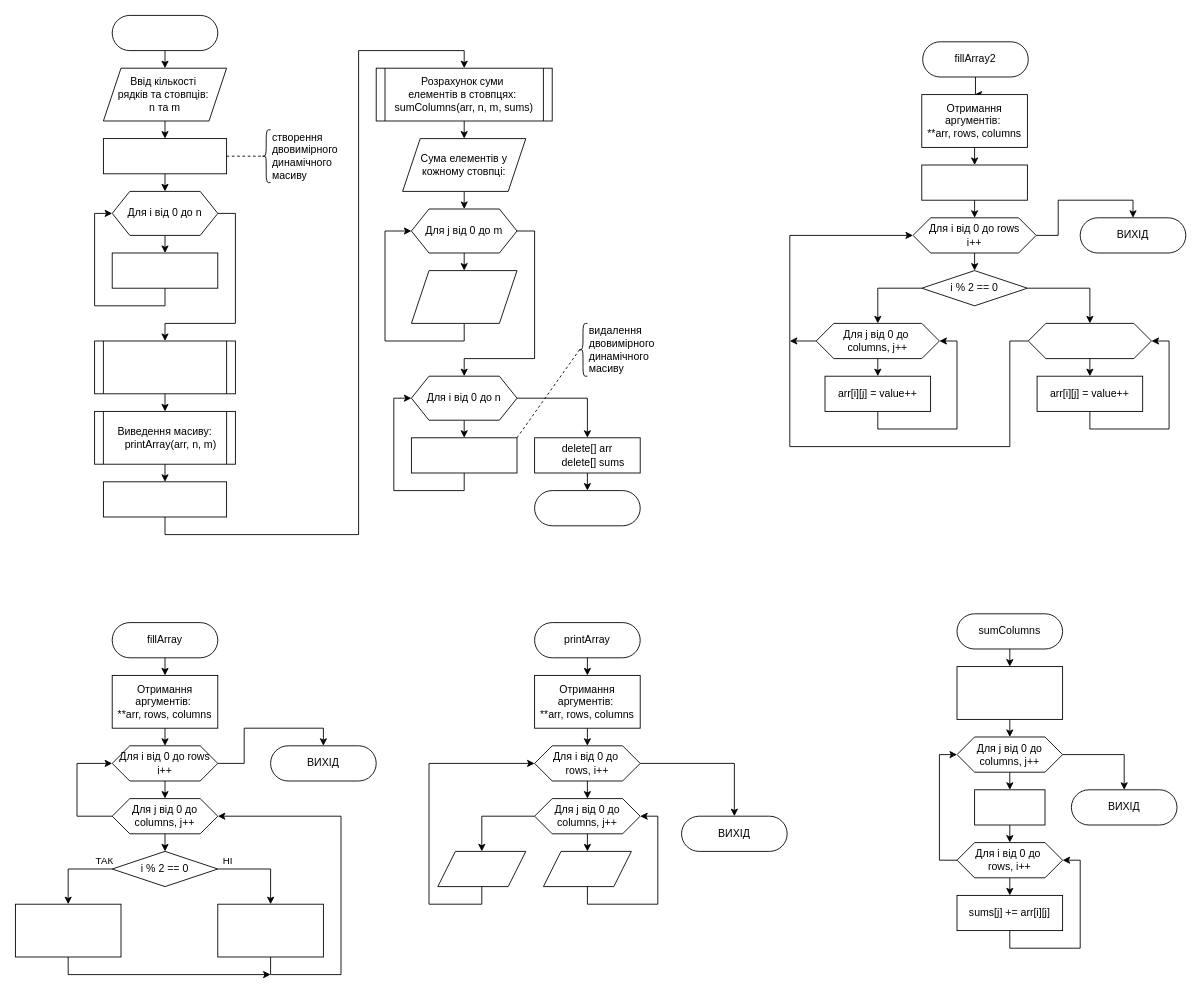
The diagram is 1201 pixels wide and 997 high, and some of its shapes have lost their labels. The box of each missing label's shape, as (x1, y1, x2, y2) in pixels:
arr[i] = new int[m]: (111, 252, 218, 288)
arr[i][j]: (543, 851, 631, 887)
arr[i][j] = (i+1)*columns - j: (217, 903, 323, 957)
arr[i][j] = columns*i + (j + 1): (15, 903, 121, 957)
delete[] arr[i]: (411, 437, 517, 473)
int **arr = new int*[n]: (103, 138, 227, 174)
int *sums = new int[m]: (103, 481, 227, 517)
sums[j]: (411, 270, 517, 323)
sums[j] = 0: (974, 789, 1045, 825)
value = 1: (921, 164, 1027, 200)
Для j від columns-1 до 0, j++: (1027, 323, 1151, 359)
КІНЕЦЬ: (534, 490, 640, 526)
наповнення масиву за певною закономірністю: fillArray(arr, n, m): (94, 340, 235, 394)
Отримання аргументів: **arr, rows, columns, *sums: (956, 666, 1063, 719)
перехід на новий рядок: (437, 851, 526, 887)
ПОЧАТОК: (111, 15, 218, 51)
